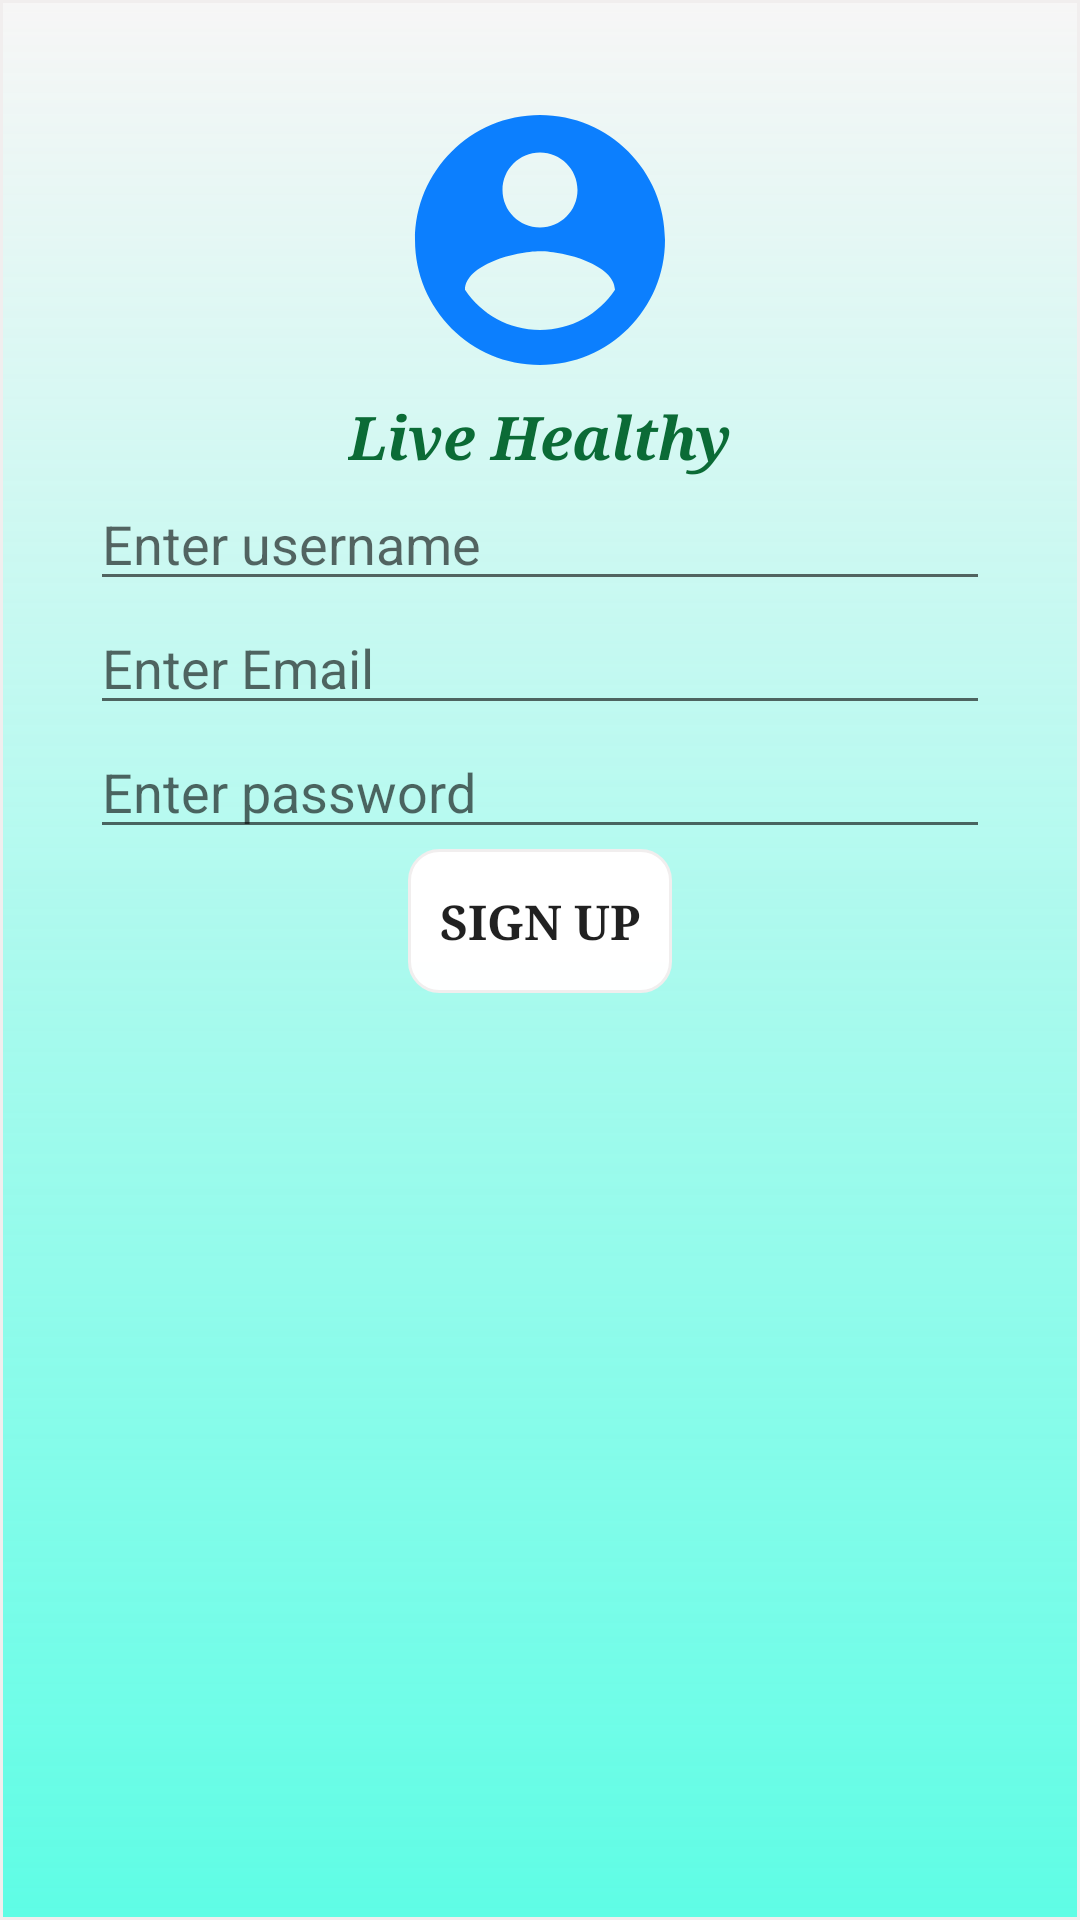

Named icons in this screenshot (1080 × 1920) and their bounding boxes, [x1, y1, x2, y2]:
account circle: [415, 115, 665, 365]
